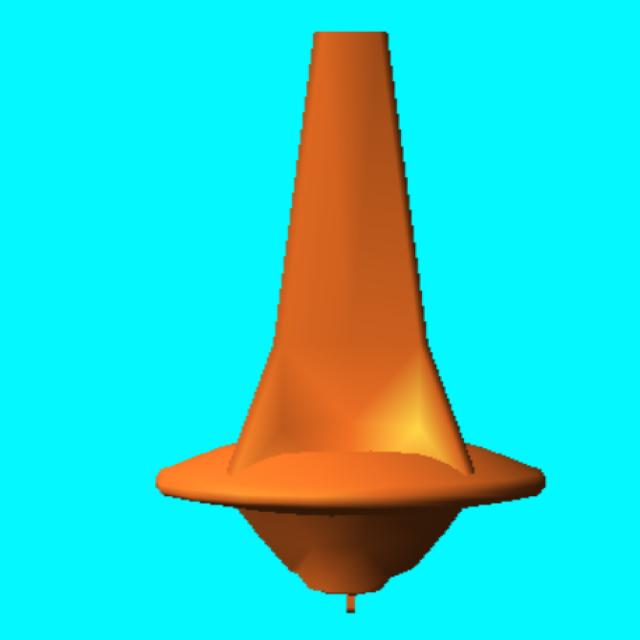OrangeBuoy: (154, 31, 548, 611)
